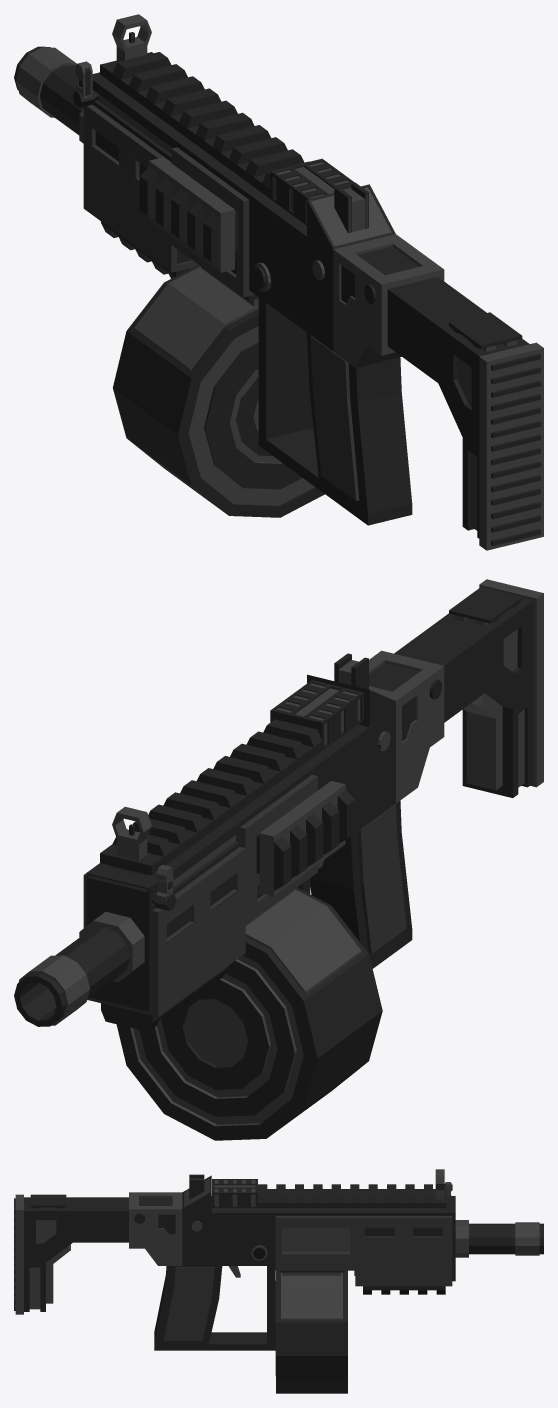
Rendered from auto-shotgun.glb.
3 views of the same model, one above another, from view 1: azimuth 30°, elevation 25°; view 2: azimuth 150°, elevation 25°; view 3: azimuth 270°, elevation 25° (orthographic). The views are drawn at different scales.
Parts seen in each view (by area): view 1: AA-12; view 2: AA-12; view 3: AA-12.
Part boxes in pixels (x1,y1,x2,y2): AA-12: (14,14,543,550); AA-12: (14,579,543,1140); AA-12: (14,1169,543,1393).
Size of the model in its own units: 0.4002 by 0.7265 by 1.62.
Materials: 1 (1 with a texture image).
